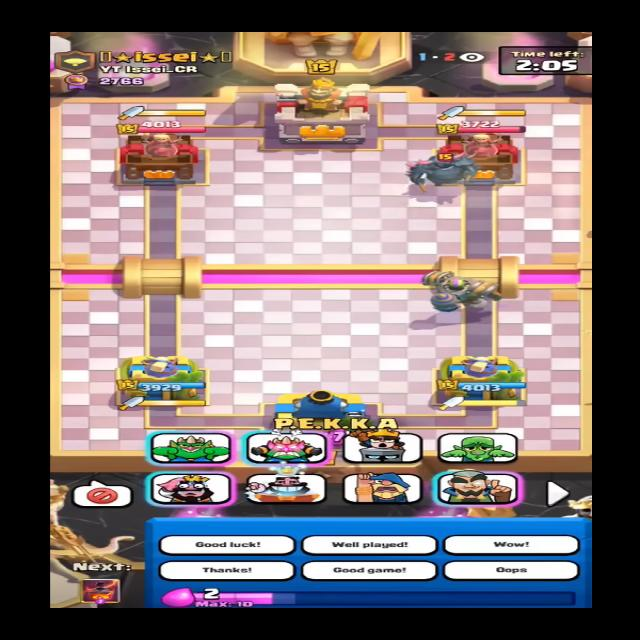Pekka: (401, 150, 482, 192)
